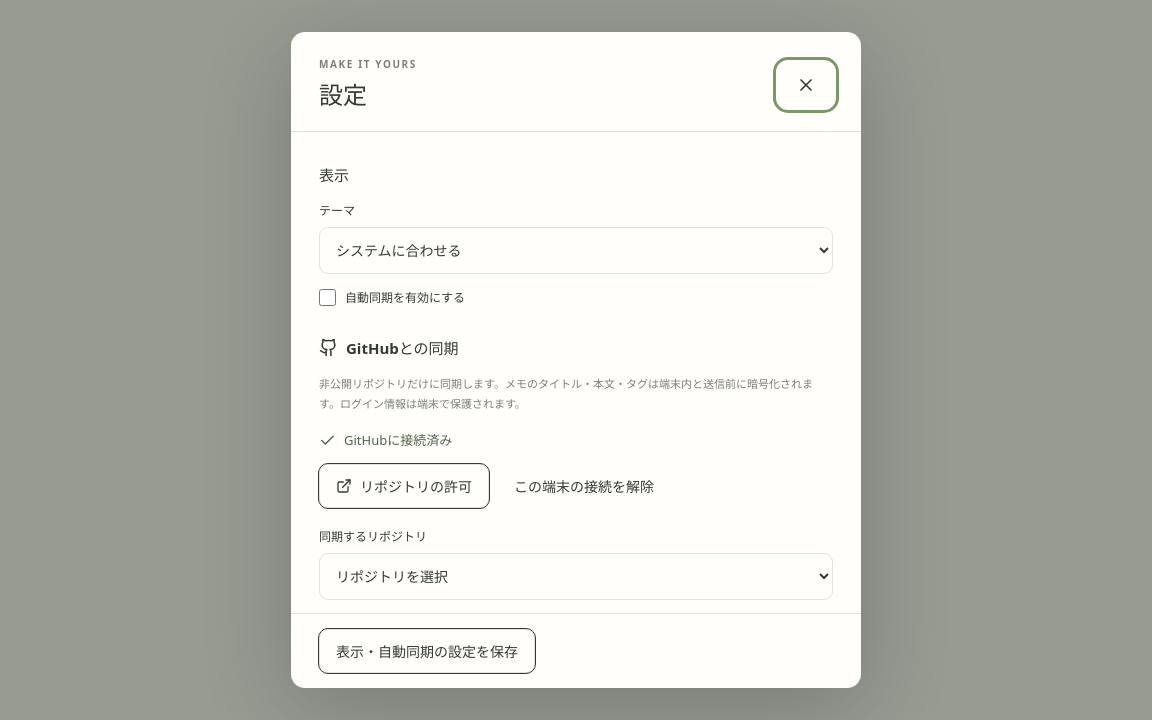
Scenario: requires a sync key, retains it after failure and clears it after successful registration
Select "octocat/notes（非公開）" in the dropdown labelled "同期するリポジトリ" at (576, 577), box [319,553,833,600]
(page scrolled)
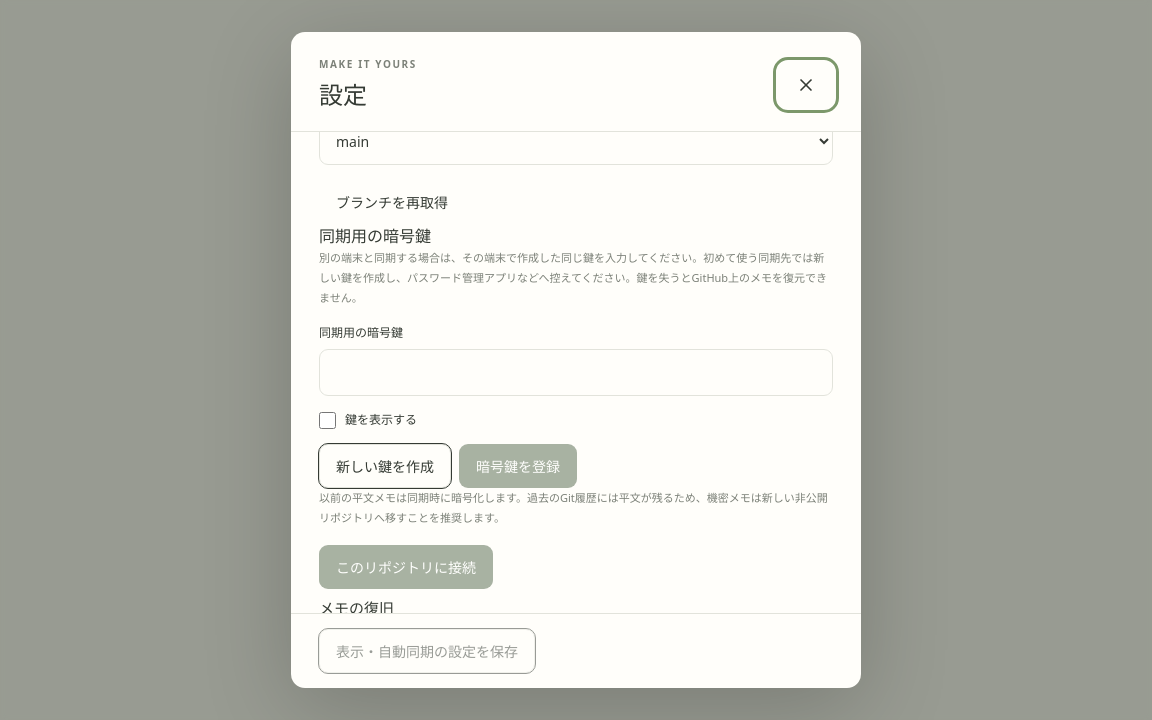
Expected: the button "このリポジトリに接続" is disabled, [319,545,493,589]
Type "device-recovery-key" into the password field labelled "同期用の暗号鍵".
click(576, 373); type("device-recovery-key")  # box [319,350,833,396]
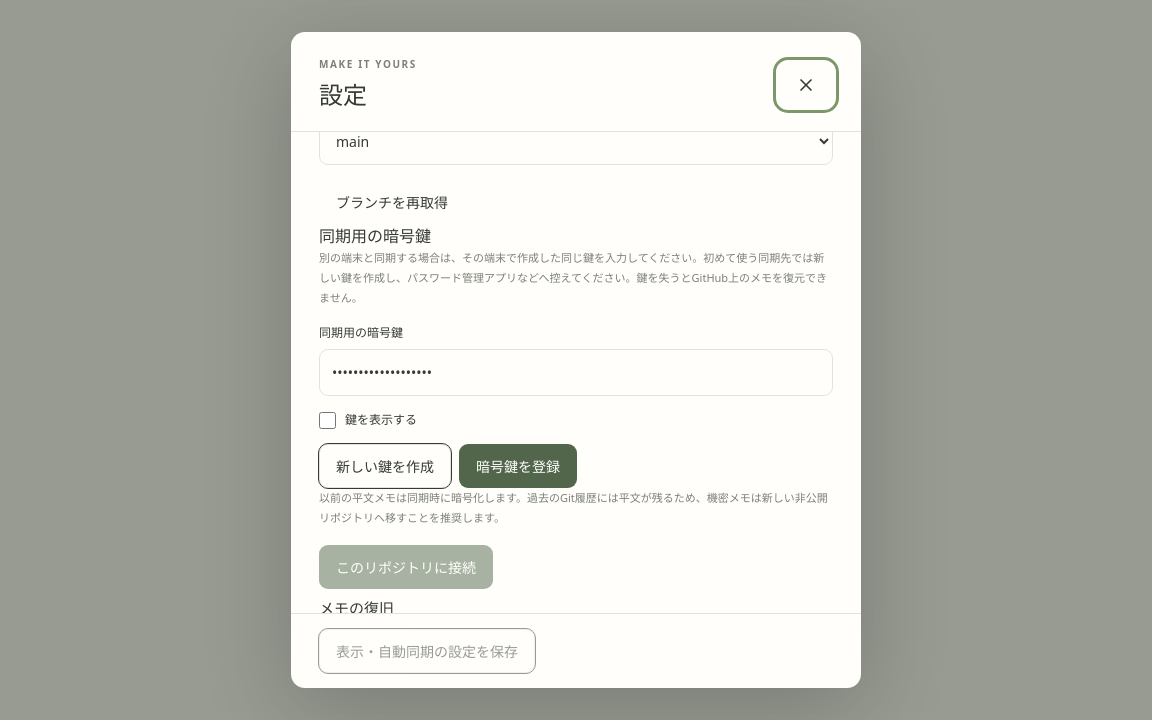
Click the button "暗号鍵を登録".
click(518, 466)  # box [459,444,577,488]
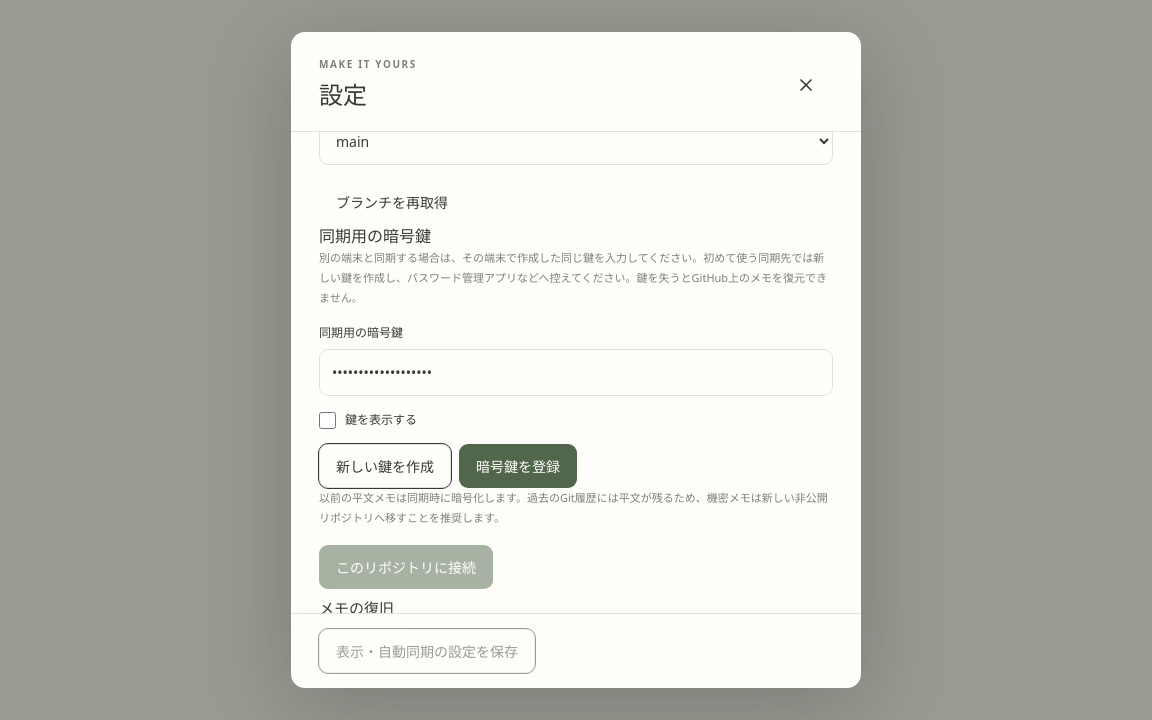
Expected: the button "このリポジトリに接続" is disabled, [319,545,493,589]
Click the button "暗号鍵を登録".
click(518, 466)  # box [459,444,577,488]
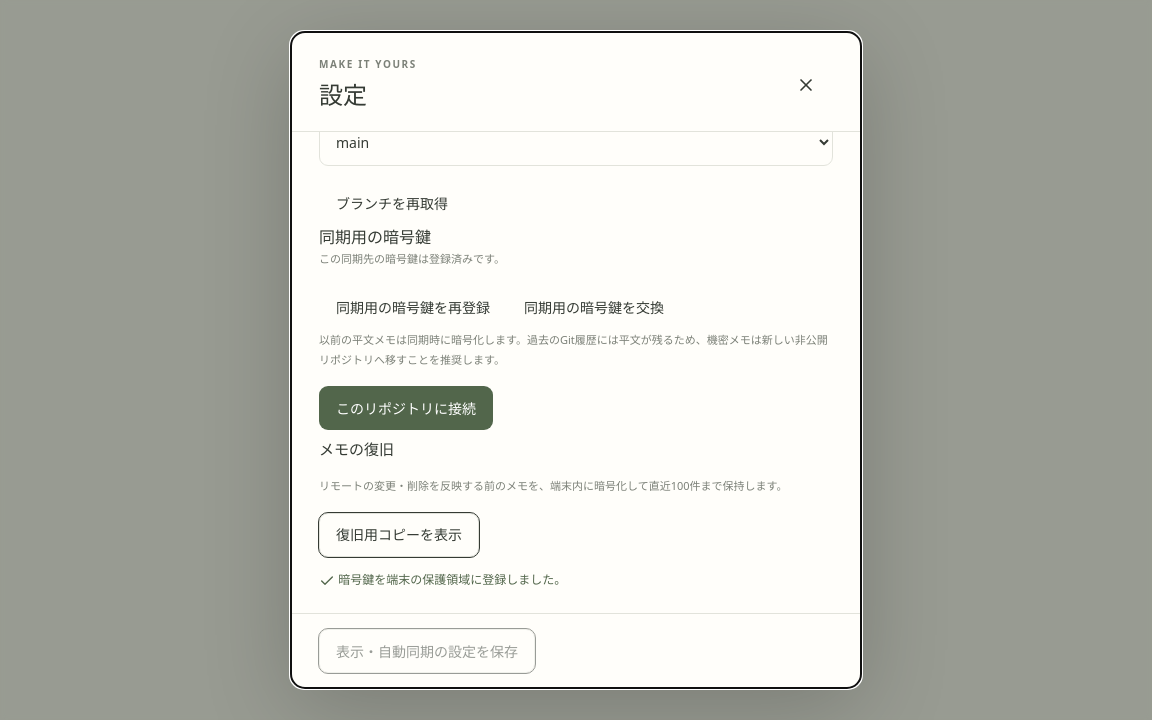
Expected: the button "このリポジトリに接続" is enabled, [319,386,493,430]
